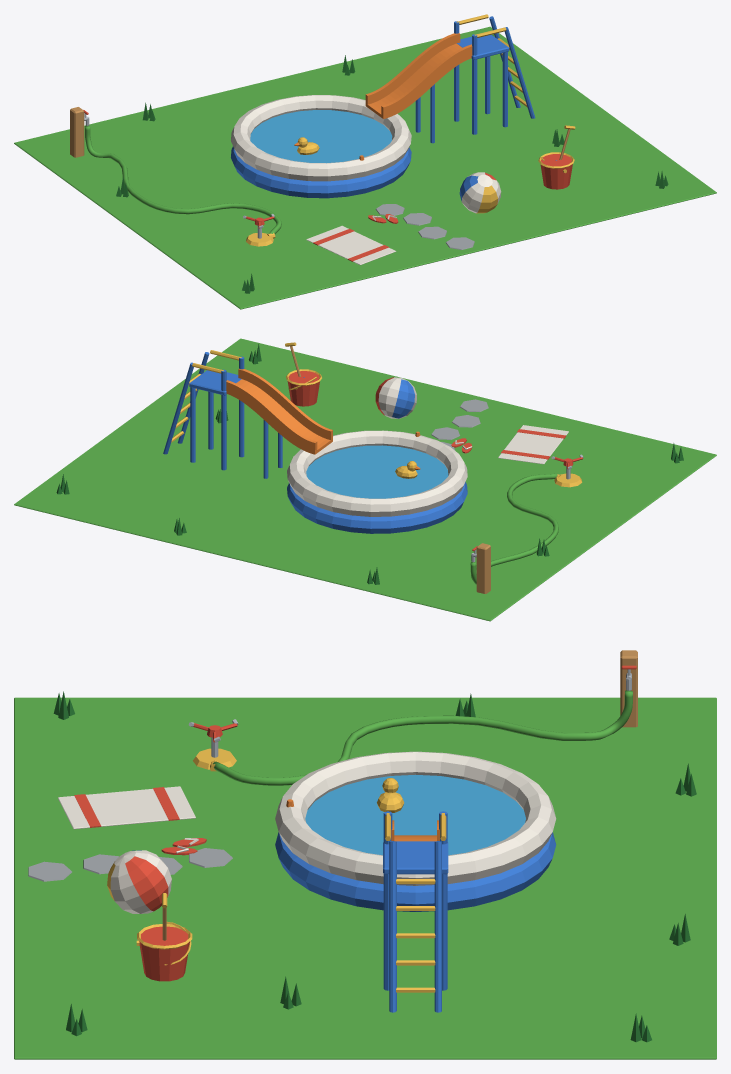
File: backyard-summer-play-set.glb
3 renders of one model, top to bottom at view 1: azimuth 30°, elevation 25°; view 2: azimuth 150°, elevation 25°; view 3: azimuth 270°, elevation 25°, orthographic. The views are drawn at different scales.
Parts seen in each view (by area): view 1: Yard_Grass, Pool_RingUpper, Water, Slide_Chute, Pool_RingLower, Yard, Slide, Hose, Yard_Towel, BeachBall, Bucket_Body, Tap_Post (+2 smaller); view 2: Yard_Grass, Pool_RingUpper, Water, Slide_Chute, Pool_RingLower, Yard, Slide, Yard_Towel, BeachBall, Hose, Bucket_Body, Tap_Post (+2 smaller); view 3: Yard_Grass, Pool_RingUpper, Water, Pool_RingLower, Yard, Hose, Yard_Towel, BeachBall, Slide, Bucket_Body, Slide_Platform, Slide_LadderRail_R (+2 smaller).
Part boxes in pixels (x1,y1,x2,y2): Yard_Grass: [14, 26, 716, 309]; Pool_RingUpper: [231, 95, 411, 181]; Water: [250, 110, 392, 163]; Slide_Chute: [365, 33, 472, 118]; Pool_RingLower: [231, 146, 411, 198]; Yard: [116, 34, 668, 293]; Slide: [454, 21, 527, 134]; Hose: [85, 125, 281, 233]; Yard_Towel: [306, 225, 396, 265]; BeachBall: [459, 172, 501, 213]; Bucket_Body: [540, 154, 572, 189]; Tap_Post: [70, 107, 84, 157]; Yard_Grass: [14, 338, 716, 621]; Pool_RingUpper: [287, 430, 467, 516]; Water: [306, 445, 448, 498]; Slide_Chute: [226, 368, 332, 454]; Pool_RingLower: [287, 482, 467, 533]; Yard: [56, 344, 683, 584]; Slide: [171, 356, 244, 470]; Yard_Towel: [498, 425, 568, 464]; BeachBall: [375, 377, 416, 418]; Hose: [470, 473, 558, 584]; Bucket_Body: [287, 371, 319, 406]; Tap_Post: [476, 543, 490, 593]; Yard_Grass: [14, 697, 716, 1059]; Pool_RingUpper: [275, 751, 556, 885]; Water: [305, 774, 525, 855]; Pool_RingLower: [275, 832, 556, 911]; Yard: [28, 691, 696, 1042]; Hose: [213, 690, 632, 785]; Yard_Towel: [58, 786, 195, 829]; BeachBall: [107, 850, 171, 913]; Slide: [383, 811, 447, 992]; Bucket_Body: [139, 926, 190, 981]; Slide_Platform: [383, 841, 448, 874]; Slide_LadderRail_R: [389, 841, 396, 1012].
Size of the model in its own units: 34 by 6.8 by 28.
